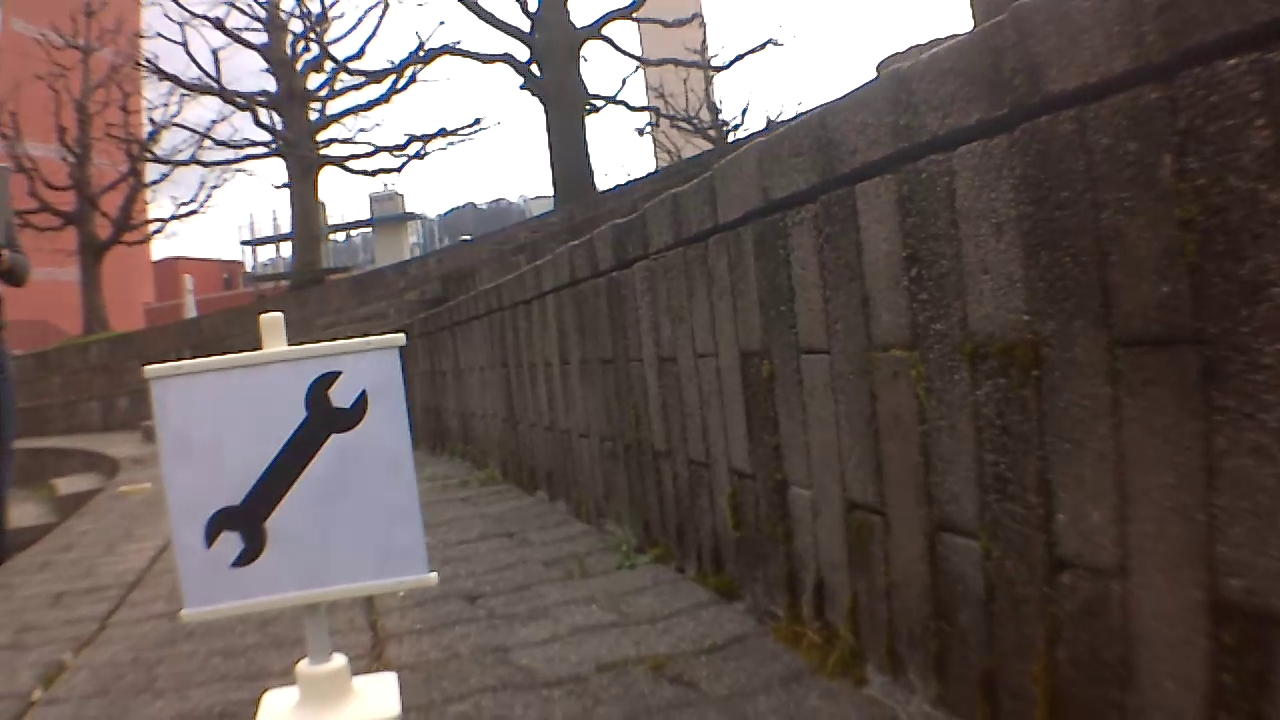wrench: (203, 365, 377, 566)
